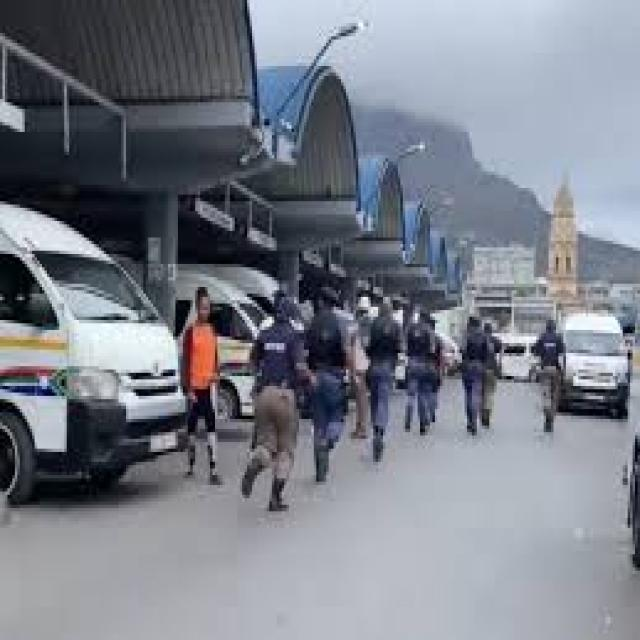MiniBus taxi: (2, 198, 190, 505), (556, 304, 630, 426)
Pedestrians: (235, 287, 309, 508), (173, 284, 227, 478)
